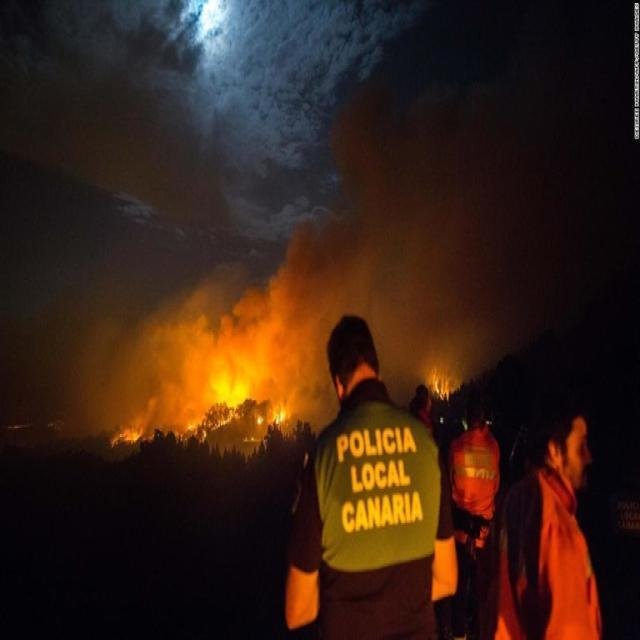Fire: (174, 381, 239, 438), (112, 420, 146, 450), (256, 400, 286, 433), (430, 372, 460, 392)
